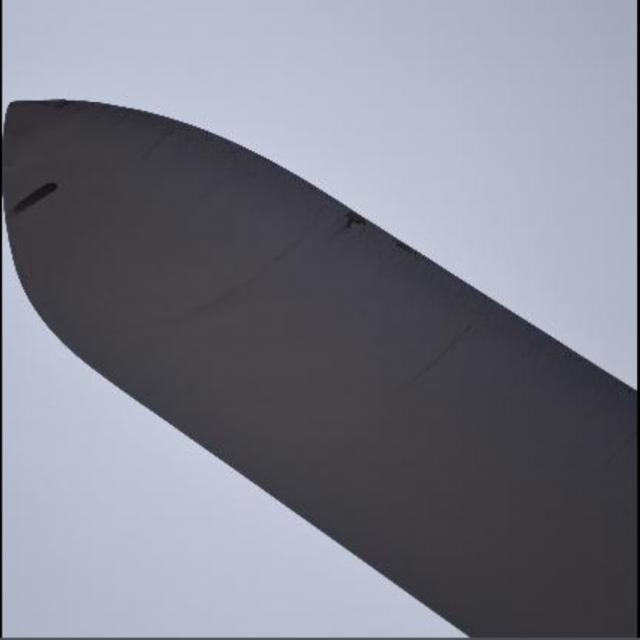Burn Mark: (10, 179, 54, 216)
Coating_defects: (332, 198, 428, 269)
